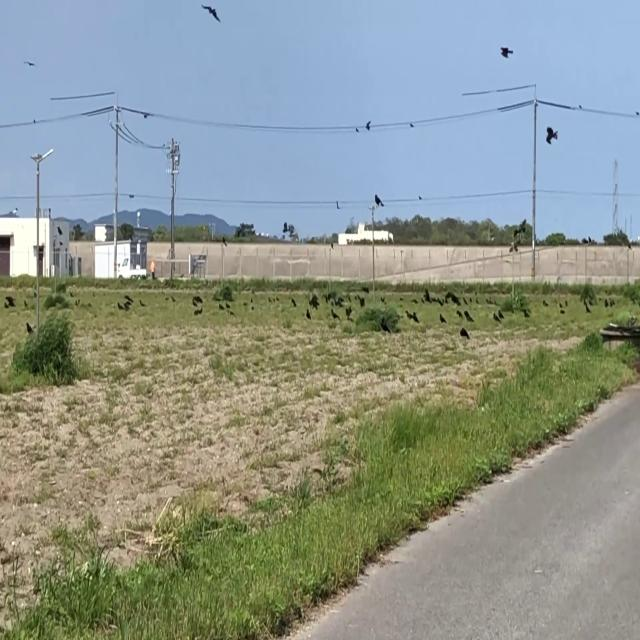bird: (202, 2, 220, 30), (546, 120, 557, 148), (501, 37, 512, 64), (374, 190, 383, 212), (366, 116, 371, 134), (466, 310, 470, 328), (144, 106, 148, 122), (494, 310, 498, 326), (605, 296, 609, 310)
